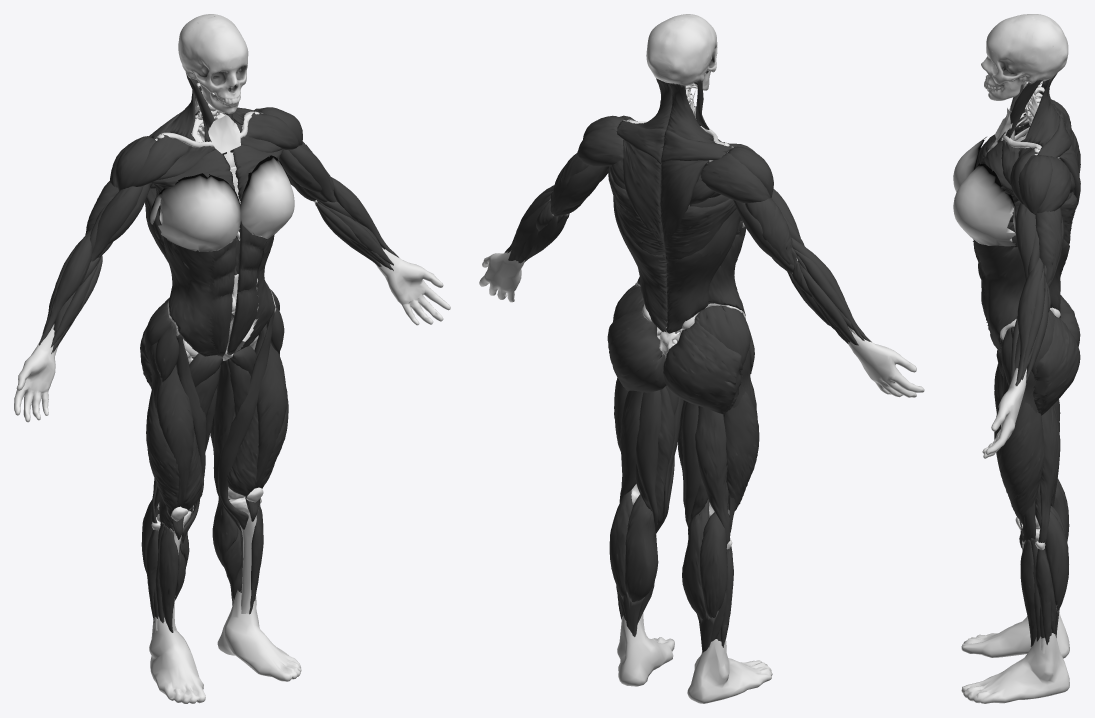
File: corpo-f-3.glb
3 renders of one model, left to right at view 1: azimuth 30°, elevation 25°; view 2: azimuth 150°, elevation 25°; view 3: azimuth 270°, elevation 25°, orthographic.
Parts seen in each view (by area): view 1: pele, deco, mama, quad_reto_femoral, obliquos, osso, adutores, antebraco_flexores, quad_vasto_lateral, ombro_frontal, antebraco_braquiorradial, quad_vasto_medial (+14 smaller); view 2: pele, gluteo_maximo, panturrilha_gastro, isquio_semitendineo, dorsal_inferior, trapezio_inferior, isquio_biceps_femoral, dorsal_superior, osso, antebraco_extensores, ombro_posterior, quad_vasto_lateral (+12 smaller); view 3: pele, osso, mama, deco, quad_vasto_lateral, obliquos, gluteo_maximo, panturrilha_gastro, isquio_biceps_femoral, ombro_lateral, triceps_lateral, antebraco_braquiorradial (+20 smaller).
Part boxes in pixels (left/top/right/bottom): pele: left=14, top=115, right=450, bottom=703; deco: left=146, top=73, right=279, bottom=632; mama: left=150, top=155, right=294, bottom=251; quad_reto_femoral: left=156, top=324, right=286, bottom=539; obliquos: left=163, top=234, right=275, bottom=356; osso: left=178, top=14, right=248, bottom=113; adutores: left=182, top=341, right=256, bottom=544; antebraco_flexores: left=50, top=200, right=393, bottom=353; quad_vasto_lateral: left=146, top=387, right=288, bottom=517; ombro_frontal: left=131, top=111, right=298, bottom=186; antebraco_braquiorradial: left=39, top=177, right=398, bottom=345; quad_vasto_medial: left=181, top=406, right=258, bottom=512; pele: left=479, top=104, right=924, bottom=703; gluteo_maximo: left=607, top=304, right=742, bottom=414; panturrilha_gastro: left=609, top=489, right=727, bottom=618; isquio_semitendineo: left=635, top=386, right=708, bottom=529; dorsal_inferior: left=619, top=228, right=730, bottom=333; trapezio_inferior: left=623, top=140, right=709, bottom=249; isquio_biceps_femoral: left=619, top=390, right=730, bottom=543; dorsal_superior: left=608, top=166, right=740, bottom=257; osso: left=646, top=14, right=717, bottom=90; antebraco_extensores: left=507, top=191, right=864, bottom=345; ombro_posterior: left=577, top=125, right=770, bottom=203; quad_vasto_lateral: left=614, top=377, right=759, bottom=510; pele: left=961, top=107, right=1069, bottom=703; osso: left=981, top=14, right=1068, bottom=100; mama: left=953, top=133, right=1016, bottom=246; deco: left=997, top=79, right=1059, bottom=646; quad_vasto_lateral: left=999, top=402, right=1044, bottom=540; obliquos: left=973, top=222, right=1025, bottom=352; gluteo_maximo: left=1033, top=295, right=1080, bottom=415; panturrilha_gastro: left=1045, top=478, right=1069, bottom=610; isquio_biceps_femoral: left=1035, top=399, right=1060, bottom=543; ombro_lateral: left=1018, top=99, right=1052, bottom=214; triceps_lateral: left=1035, top=208, right=1062, bottom=283; antebraco_braquiorradial: left=1015, top=258, right=1043, bottom=386.
Size of the model in its own units: 1.15 by 1.65 by 0.2907.
1 material, 1 textured.
